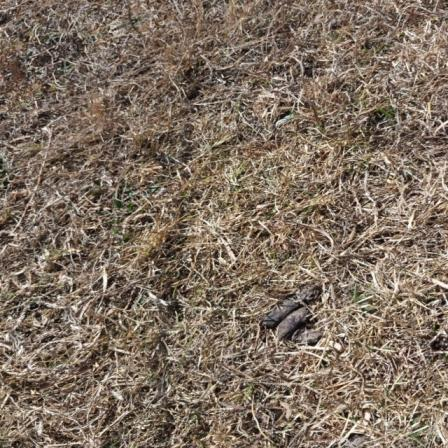dog-poop: (265, 292, 325, 349)
